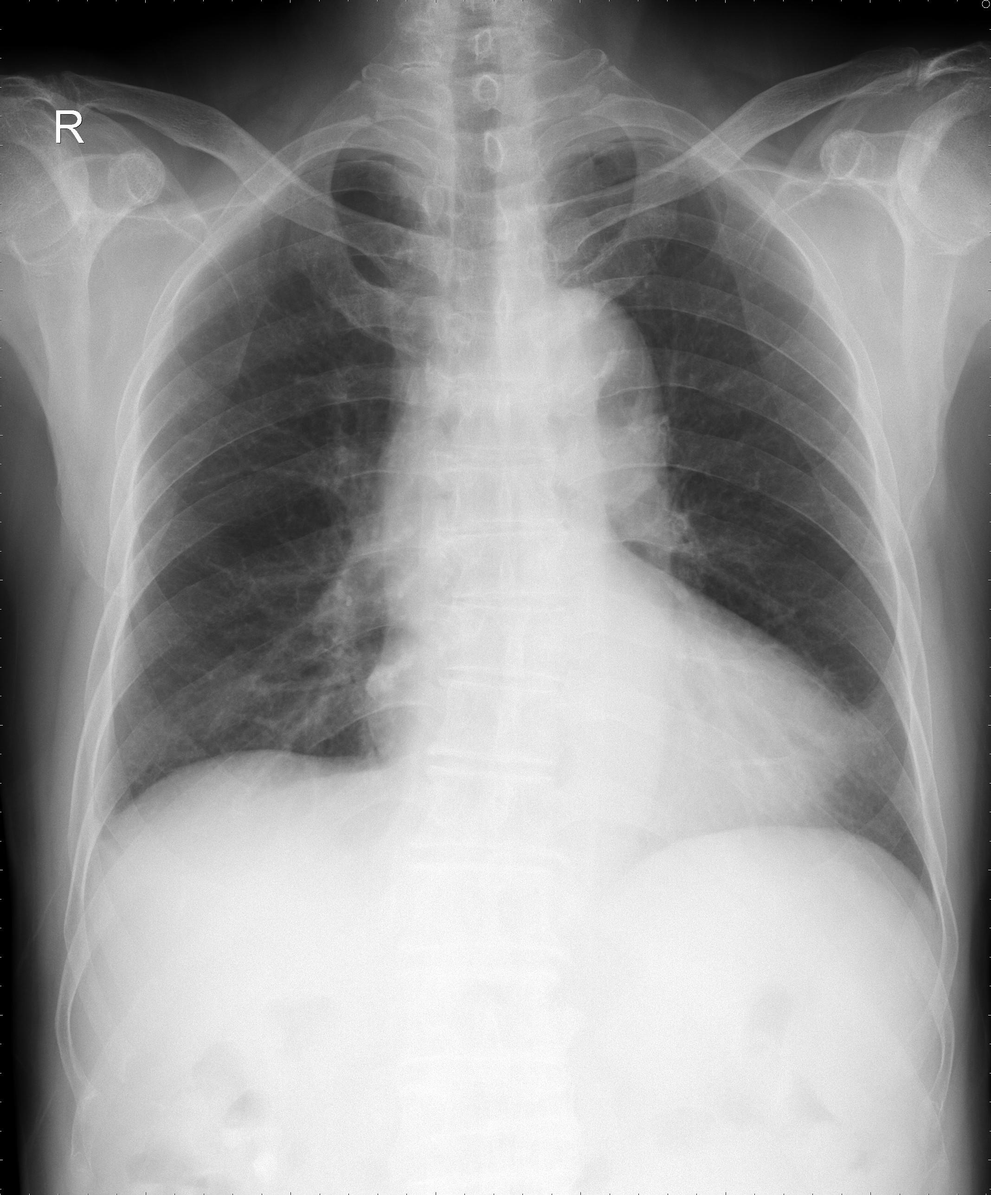Aortic enlargement: (487, 296, 663, 449)
Cardiomegaly: (364, 672, 859, 814)
